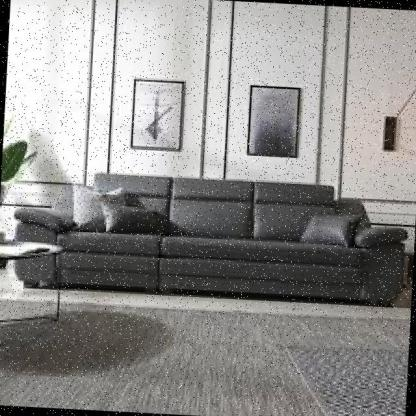Sofa: (0, 150, 415, 334)
